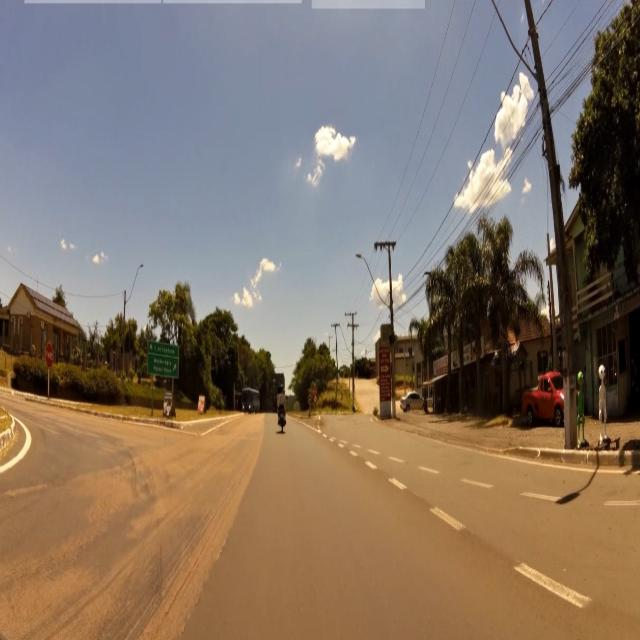I-4: (146, 338, 181, 383)
R-1: (44, 340, 54, 376)
